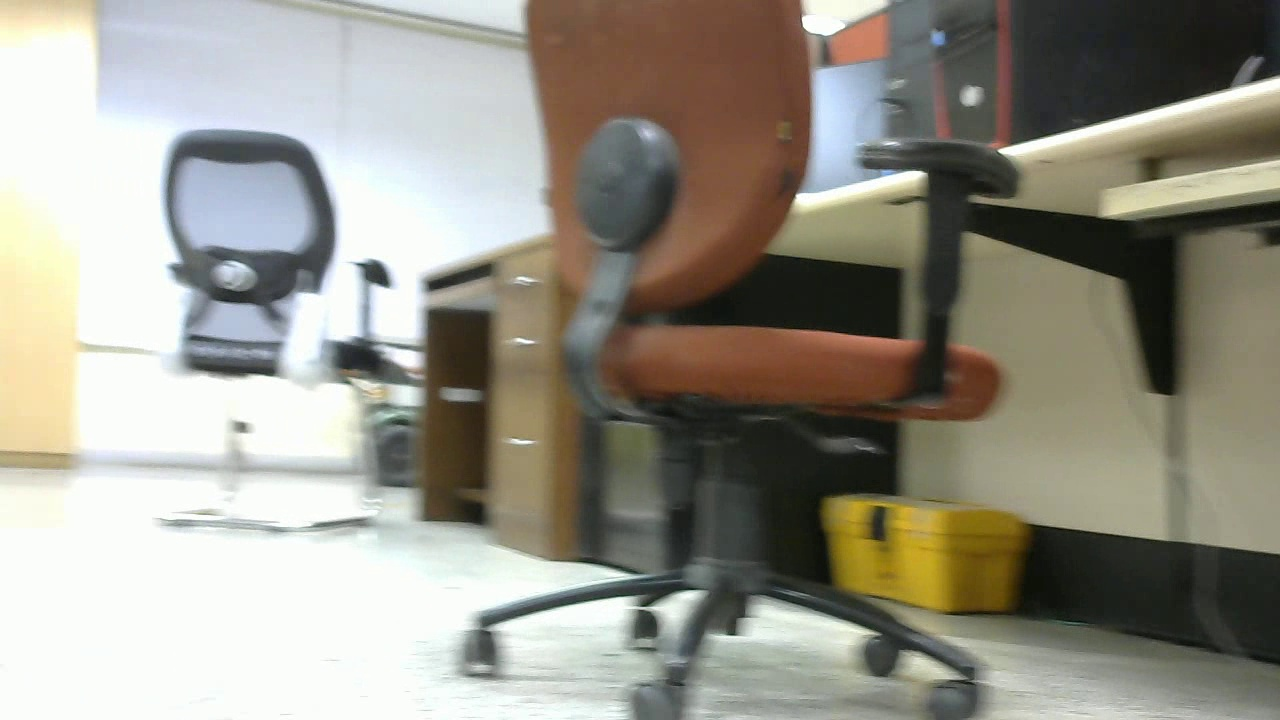chair: (446, 4, 1023, 720), (127, 122, 418, 535)
